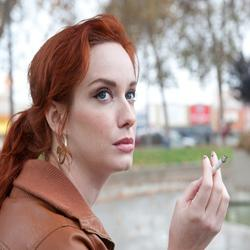cigarro: (204, 153, 232, 179)
fumador: (26, 6, 231, 250)
